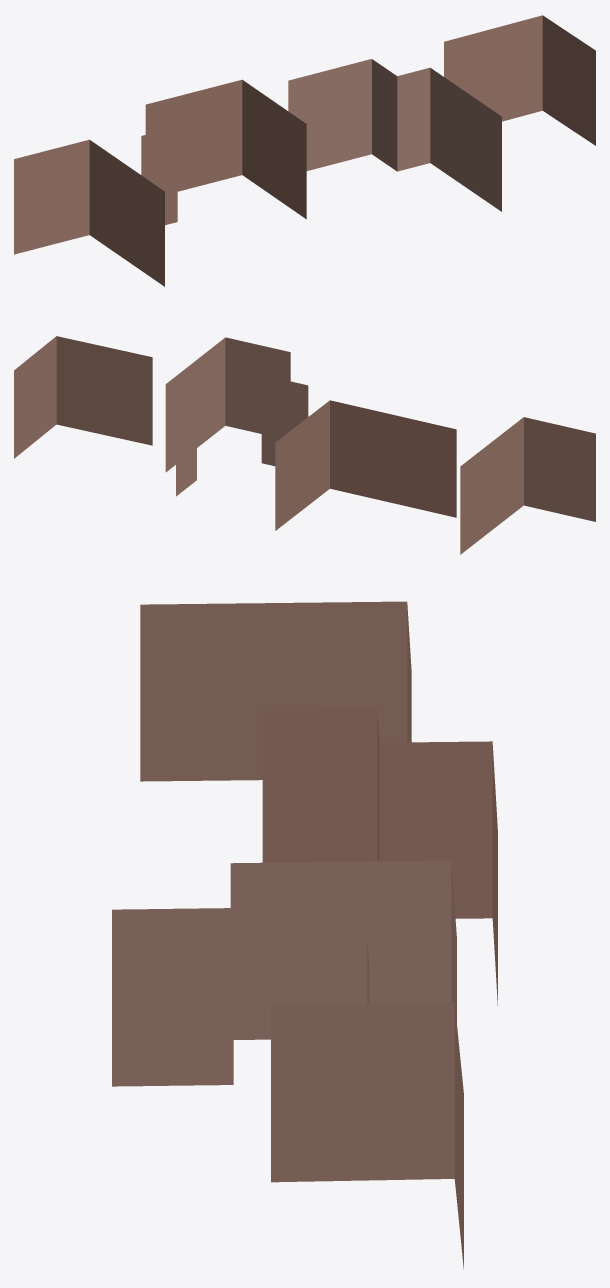
Rendered from c_1639_17821_buildings_residential.glb.
3 views of the same model, one above another, from view 1: azimuth 30°, elevation 25°; view 2: azimuth 150°, elevation 25°; view 3: azimuth 270°, elevation 25° (orthographic). The views are drawn at different scales.
Parts seen in each view (by area): view 1: geometry_0; view 2: geometry_0; view 3: geometry_0.
Boxes of the visible parts, box(x1,y1,x2,y2) form: geometry_0: box(14, 15, 595, 286); geometry_0: box(14, 336, 595, 554); geometry_0: box(112, 601, 497, 1269).
Bounding box in the file's own units: 57.05 × 9.58 × 18.77.
